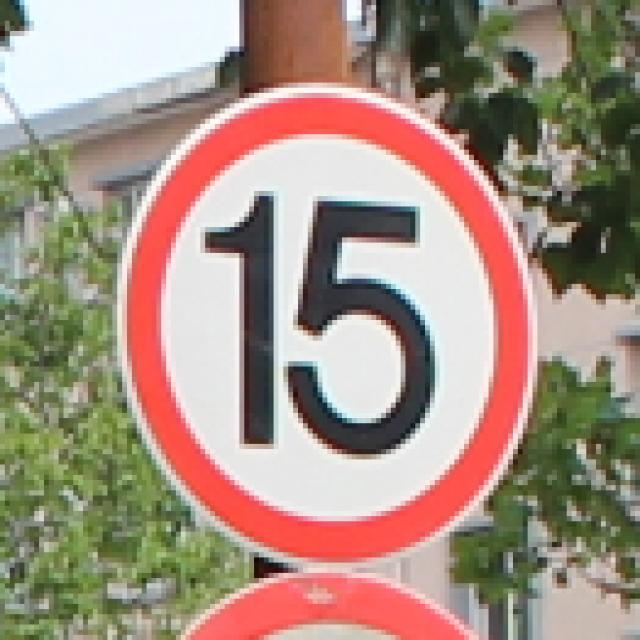Speed: (105, 83, 562, 581)
